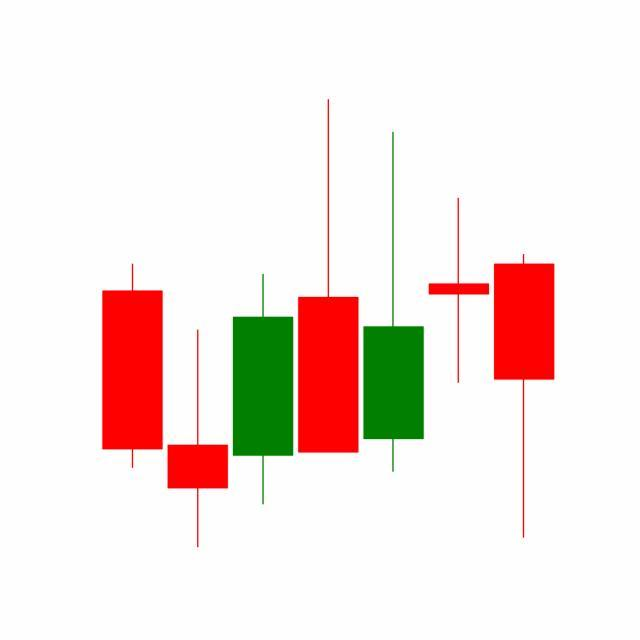Evening Doji Star: (360, 128, 556, 543)
